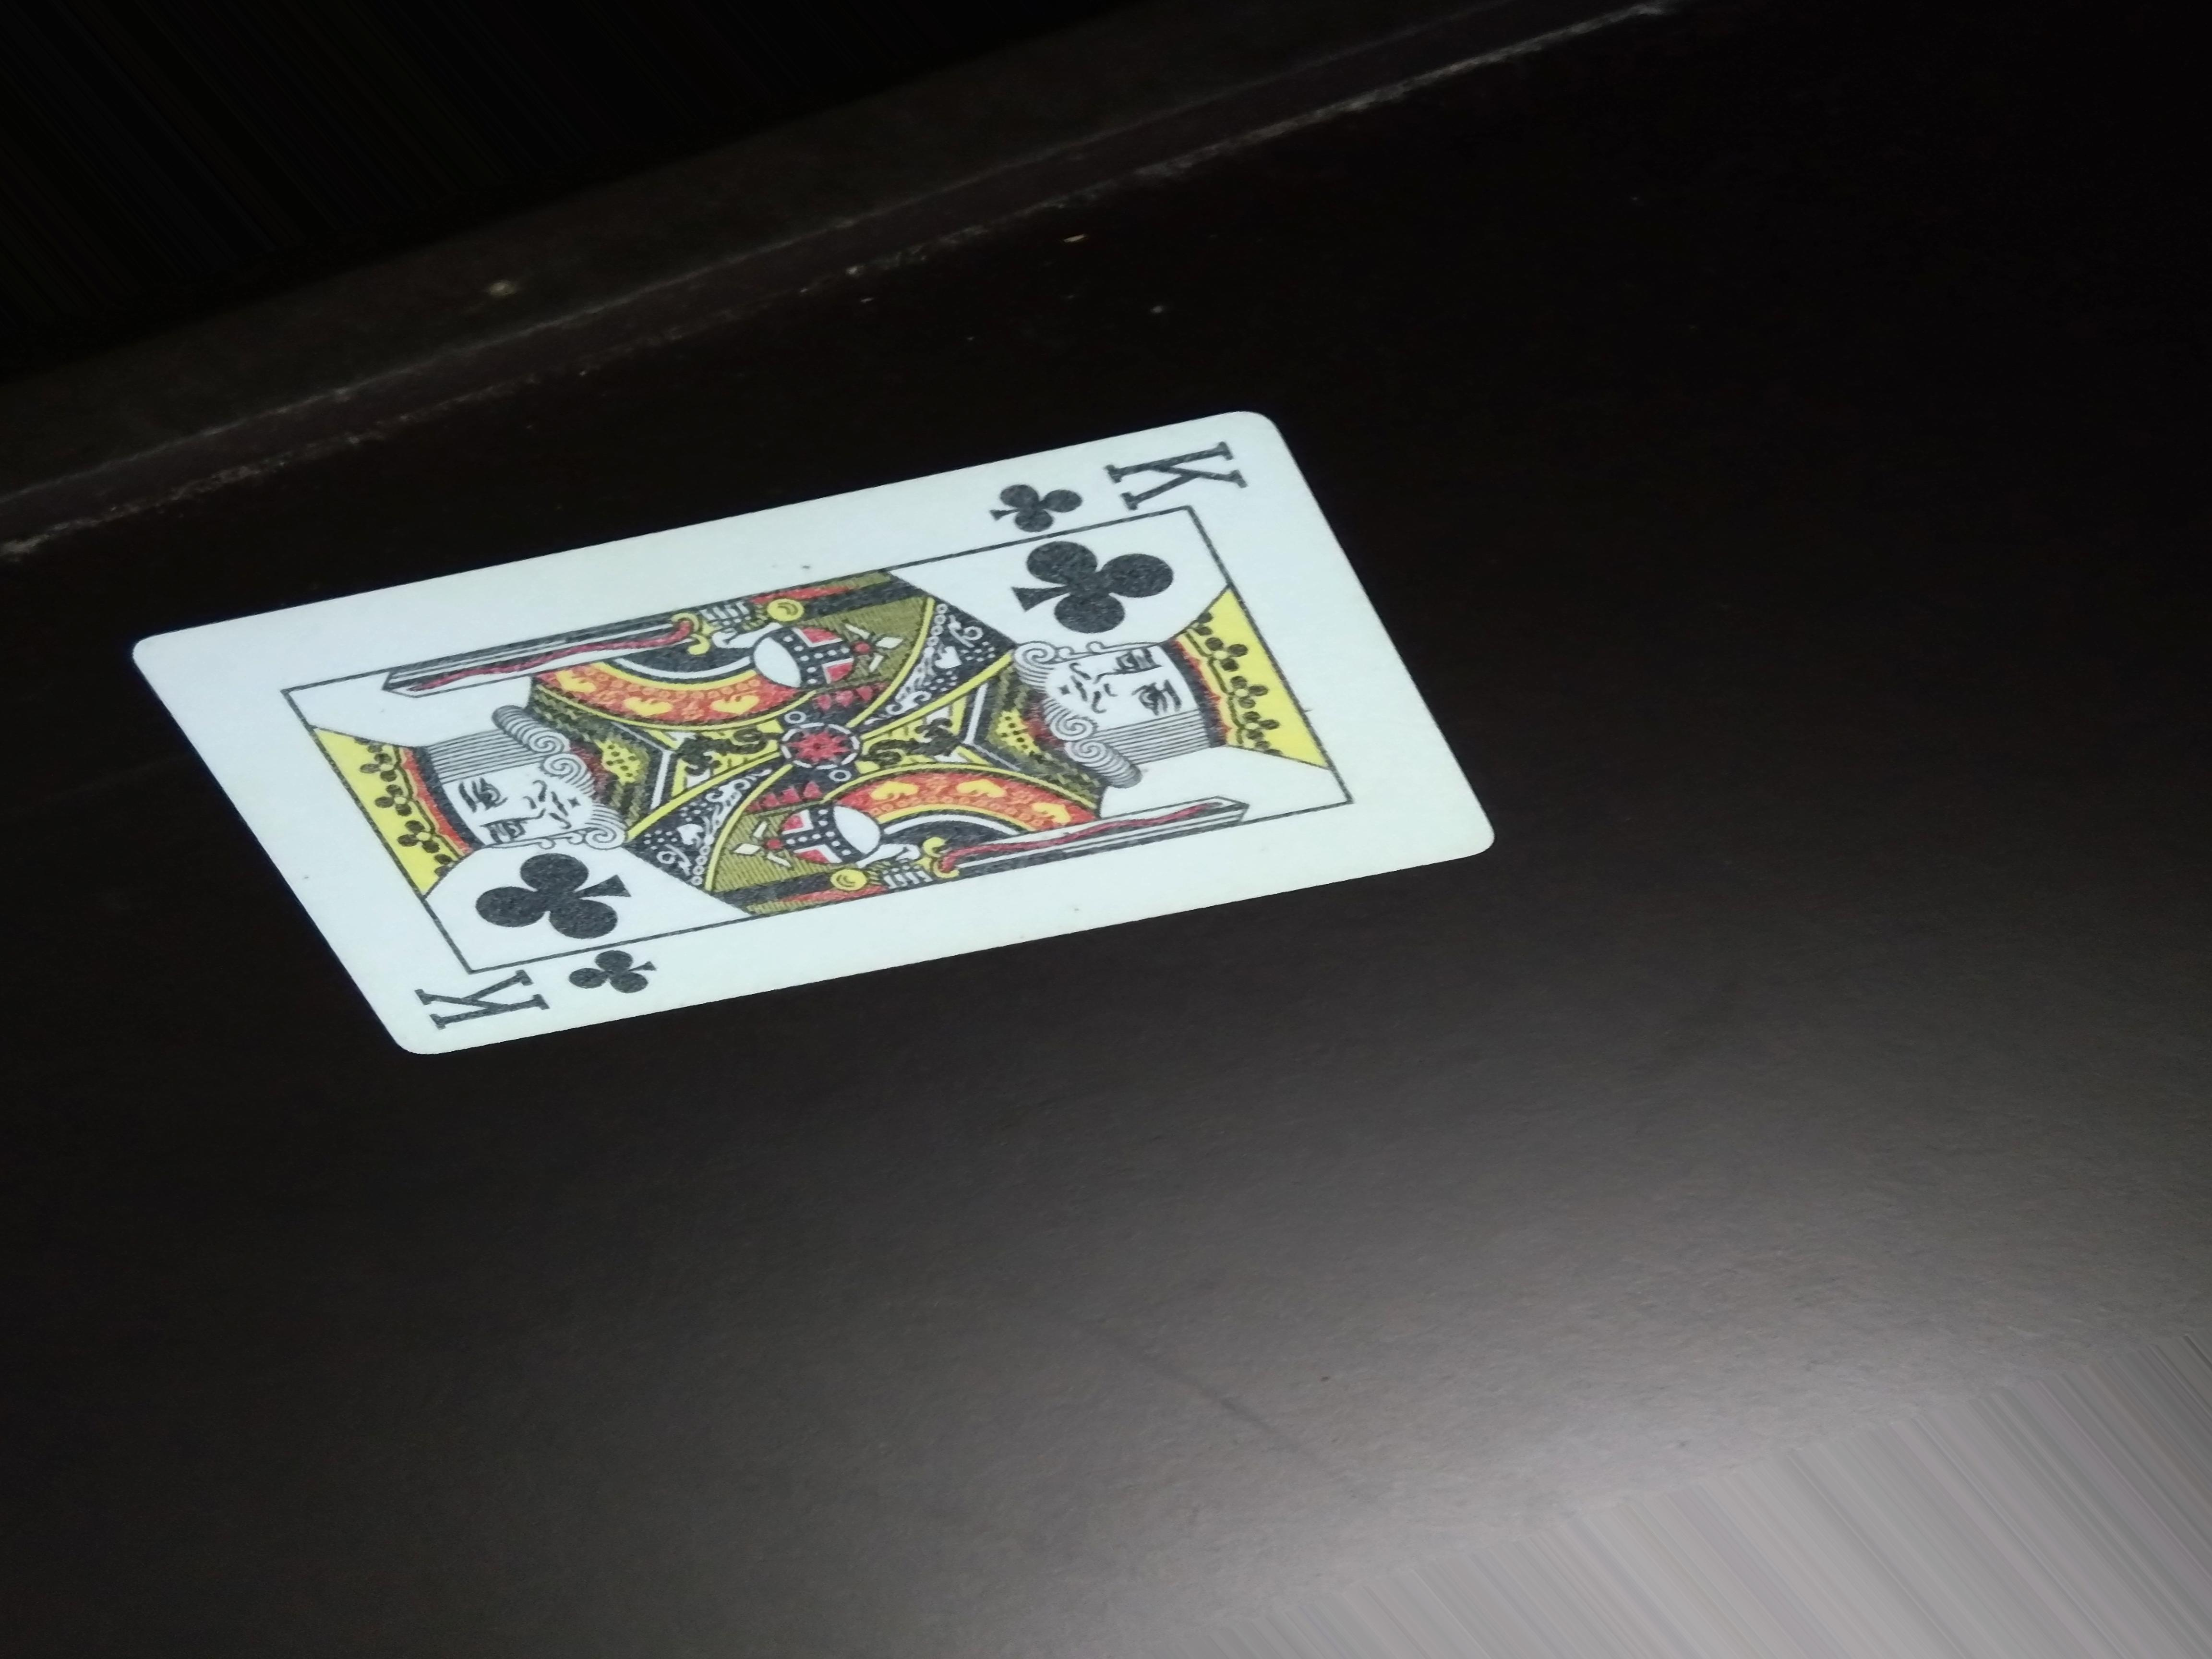KC: (984, 415, 1264, 535)
